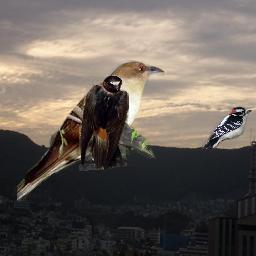Crow: (107, 115, 156, 159)
Cuckoo: (17, 59, 165, 202)
Swallow: (79, 75, 129, 171)
Woodpecker: (202, 107, 252, 149)
